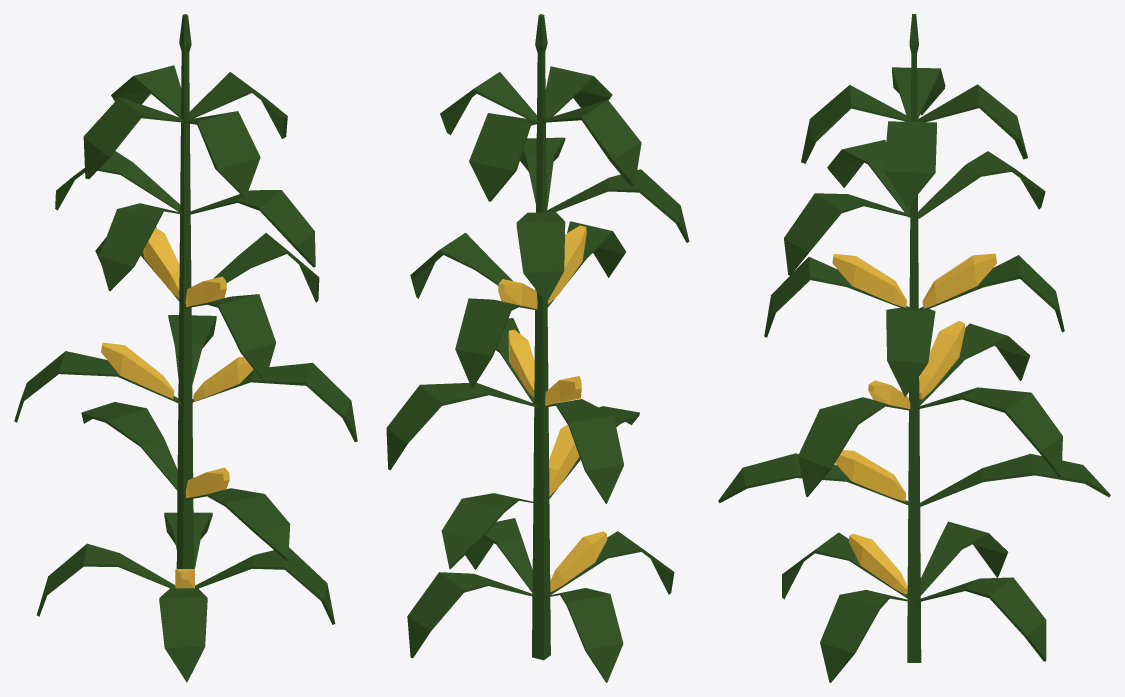
The model's file is prop_Corn_2.glb.
3 views of the same model, side by side, from view 1: azimuth 30°, elevation 25°; view 2: azimuth 150°, elevation 25°; view 3: azimuth 270°, elevation 25° (orthographic).
Parts seen in each view (by area): view 1: Corn_2; view 2: Corn_2; view 3: Corn_2.
Boxes of the visible parts, <box> form: Corn_2: <box>14,14,357,682</box>; Corn_2: <box>386,14,689,682</box>; Corn_2: <box>718,14,1110,682</box>.
Bounding box in the file's own units: 0.8237 × 1.98 × 1.09.
